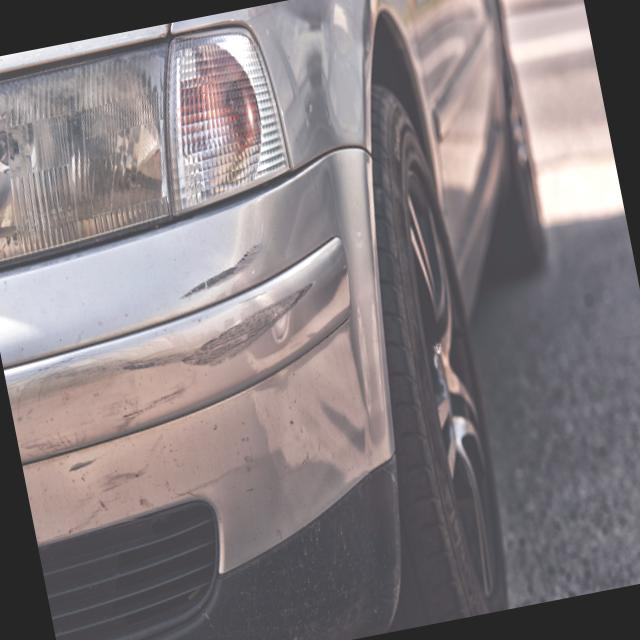Rayure: (3, 336, 190, 468), (162, 272, 342, 396), (65, 448, 161, 530), (172, 229, 273, 302)
